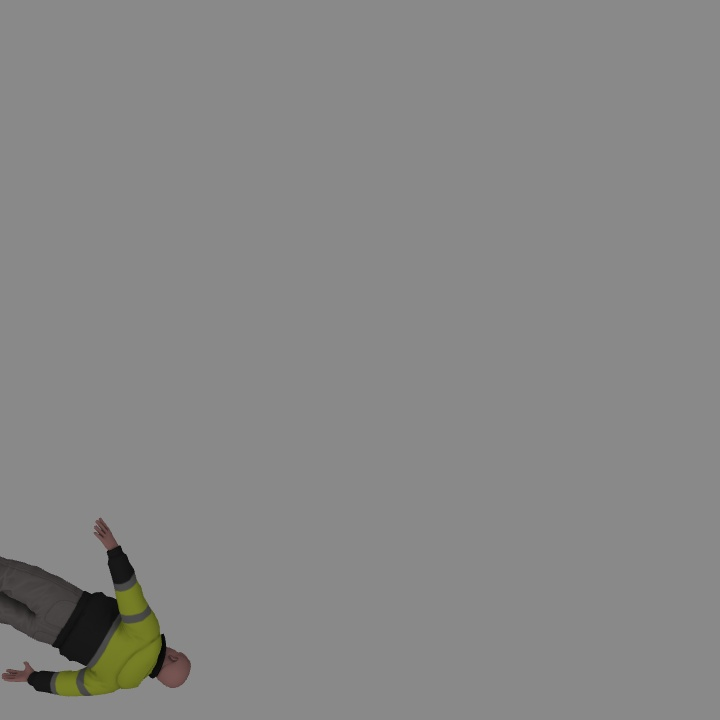victim: (1, 516, 192, 695)
